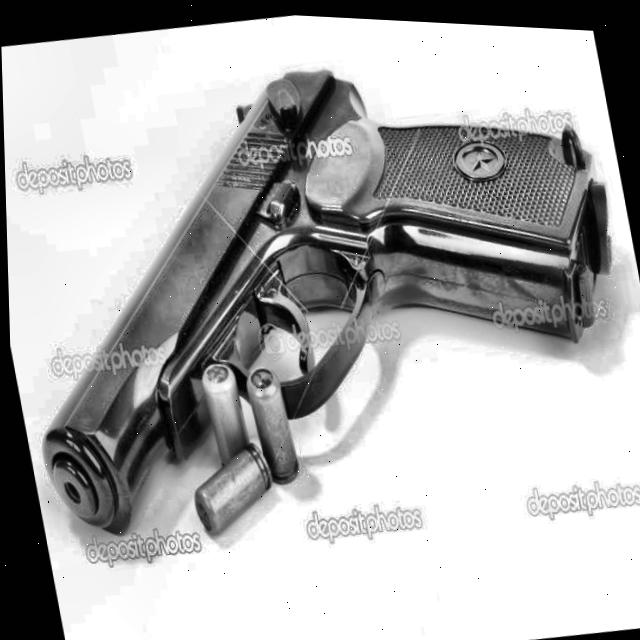pistol: (0, 0, 640, 590)
